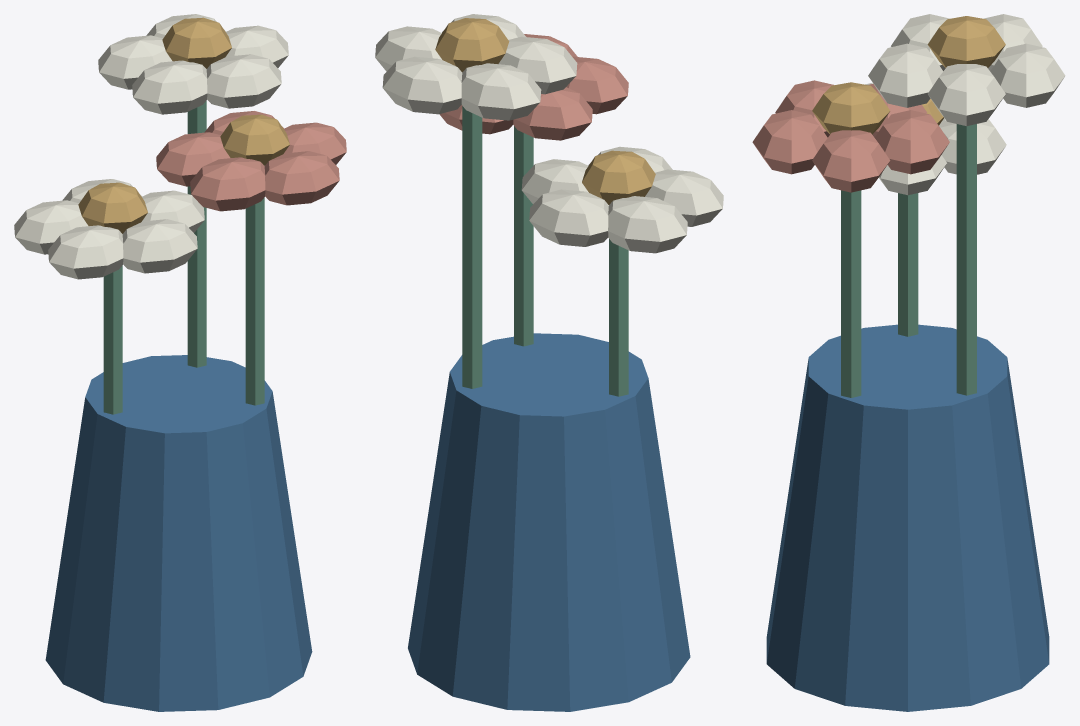
Rendered from three_flower_vase.glb.
The picture shows the model from 3 angles, left to right: view 1: azimuth 30°, elevation 25°; view 2: azimuth 150°, elevation 25°; view 3: azimuth 270°, elevation 25°; orthographic projection. The views are drawn at different scales.
Visible parts, largest first — view 1: vase, flower_petal (×12), flower_stem (×3), flower_core (×3); view 2: vase, flower_petal (×13), flower_stem (×3), flower_core (×2); view 3: vase, flower_petal (×11), flower_stem (×3), flower_core (×2).
Boxes of the visible parts, x1,y1,x2,y2 form: vase: (45, 355, 312, 711); flower_petal (×12): (14, 25, 346, 279); flower_stem (×3): (103, 101, 264, 414); flower_core (×3): (78, 17, 289, 233); vase: (408, 333, 690, 711); flower_petal (×13): (375, 14, 723, 253); flower_stem (×3): (462, 106, 628, 396); flower_core (×2): (435, 18, 655, 204); vase: (766, 324, 1049, 711); flower_petal (×11): (752, 14, 1065, 195); flower_stem (×3): (841, 124, 976, 397); flower_core (×2): (812, 16, 1005, 134).
Bounding box in the file's own units: 0.1839 × 0.3685 × 0.1599.
